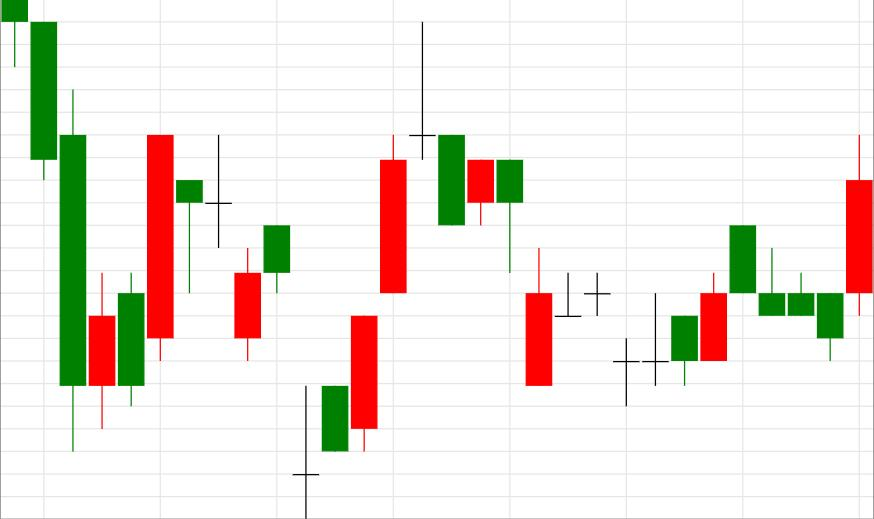evening_star_fall: (292, 22, 465, 518)
